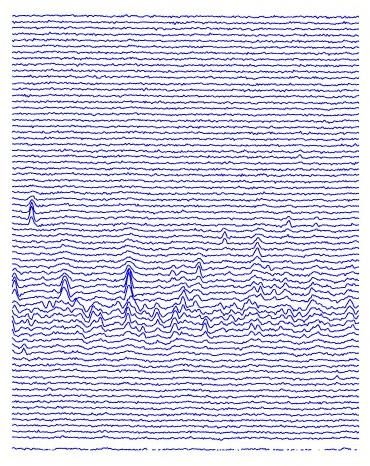defect: (216, 302, 355, 333), (80, 297, 185, 336), (248, 279, 326, 300), (11, 302, 35, 367), (119, 260, 135, 299), (53, 272, 73, 303), (24, 197, 39, 228), (251, 237, 265, 267), (281, 211, 294, 242), (190, 250, 202, 281), (11, 270, 21, 298), (219, 228, 229, 247)
